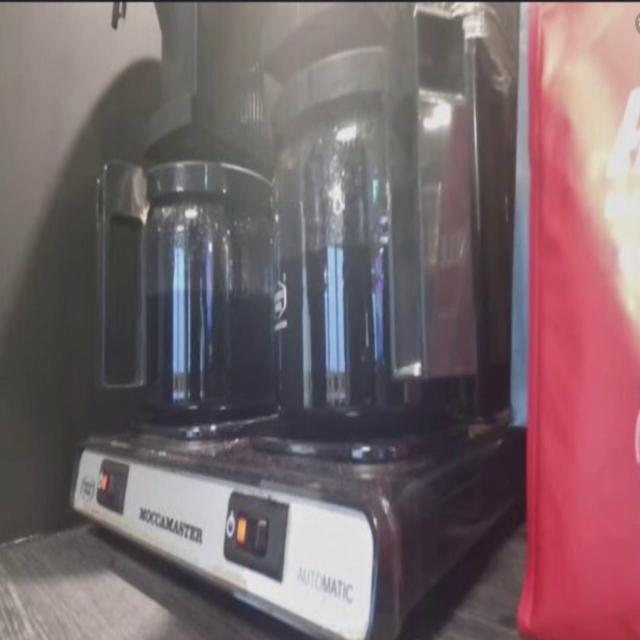coffee: (273, 163, 457, 424), (136, 219, 274, 415)
